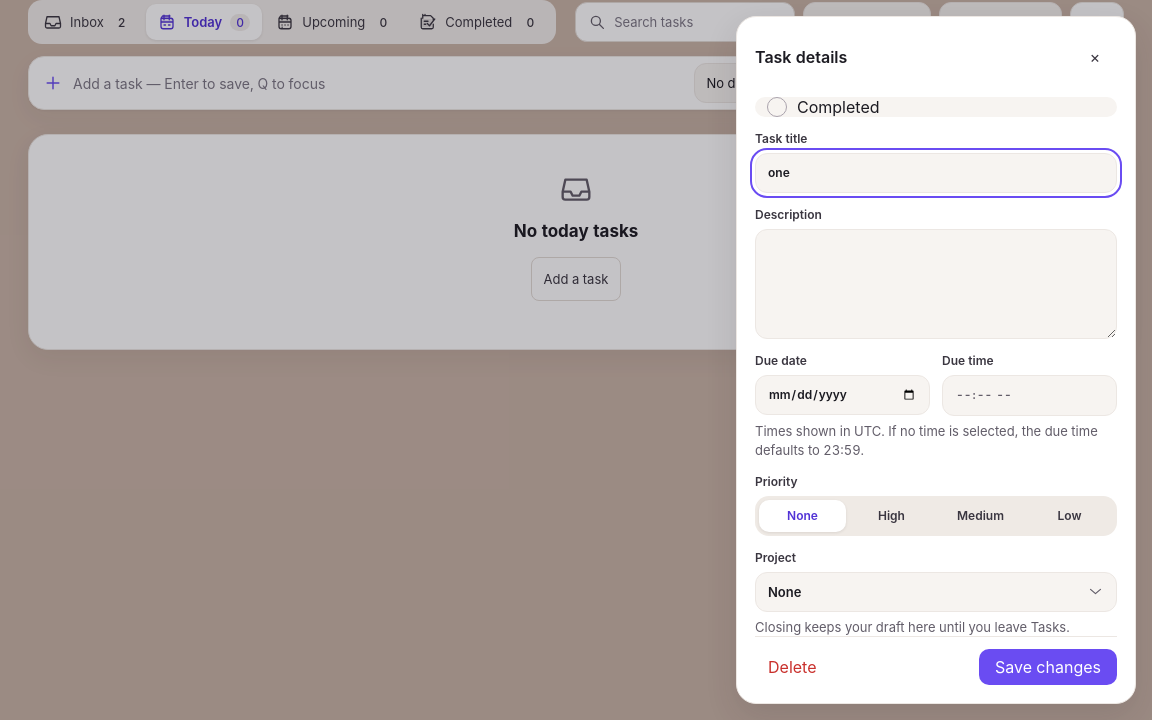
Test: search destination intents › uses the styled task picker and preserves its native change contract
Click the dropdown labelled "None" at (785, 592), box [755, 572, 1117, 612]
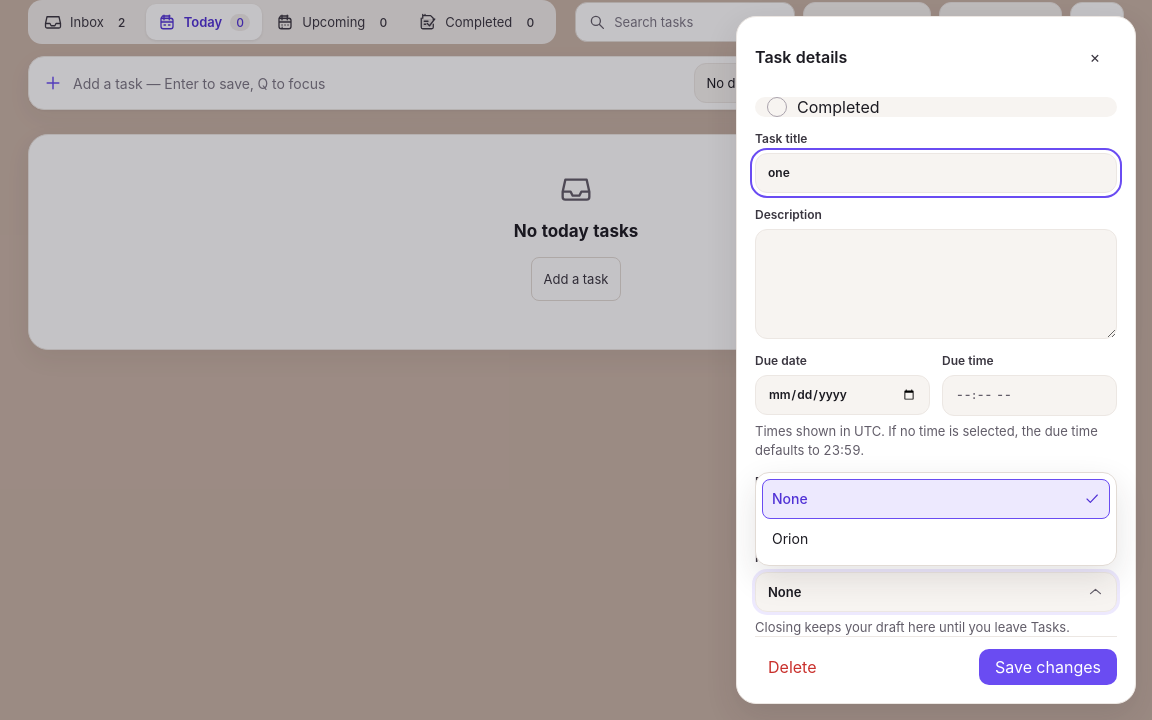
Click the option "Orion" at (790, 538), box [772, 530, 808, 547]
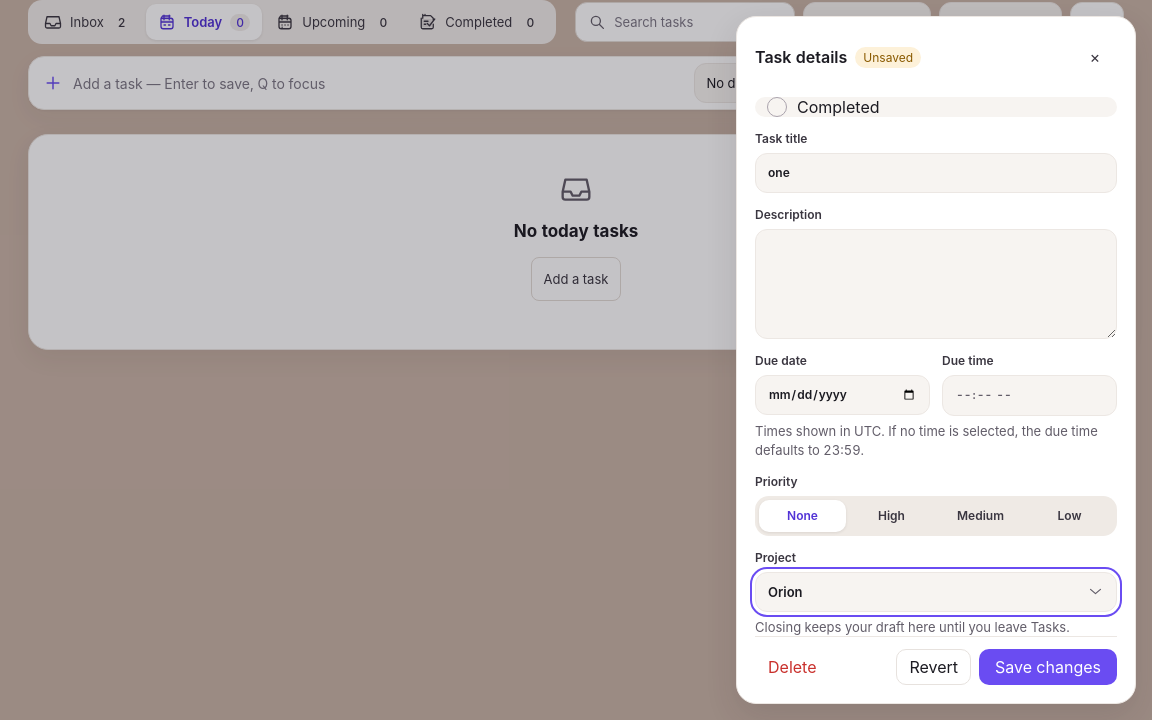
Result: the dropdown labelled "Orion" is shown at [755, 572, 1117, 612]
